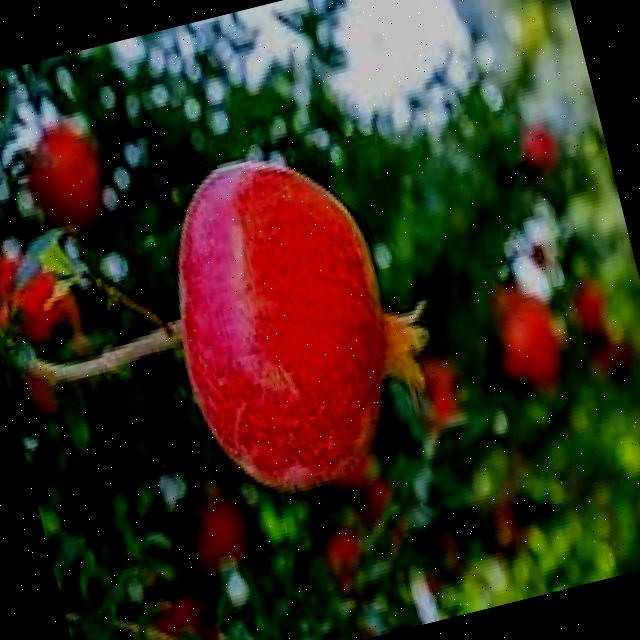Pomegranate: (134, 120, 468, 517)
